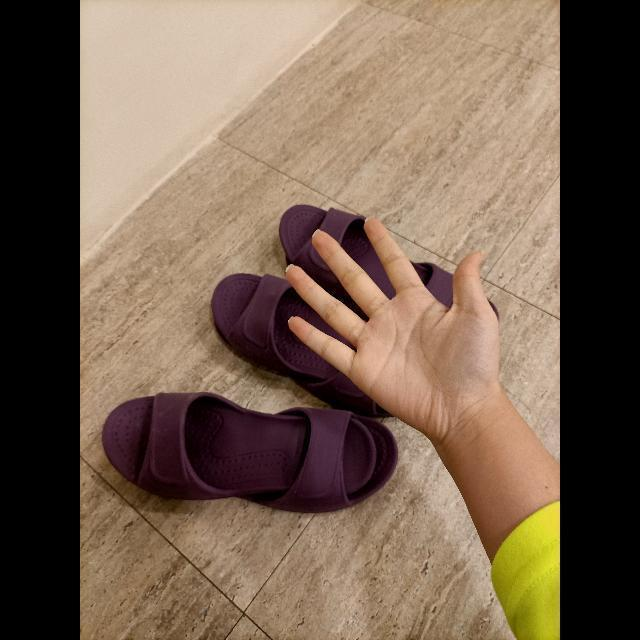bare_hand: (281, 213, 518, 459)
